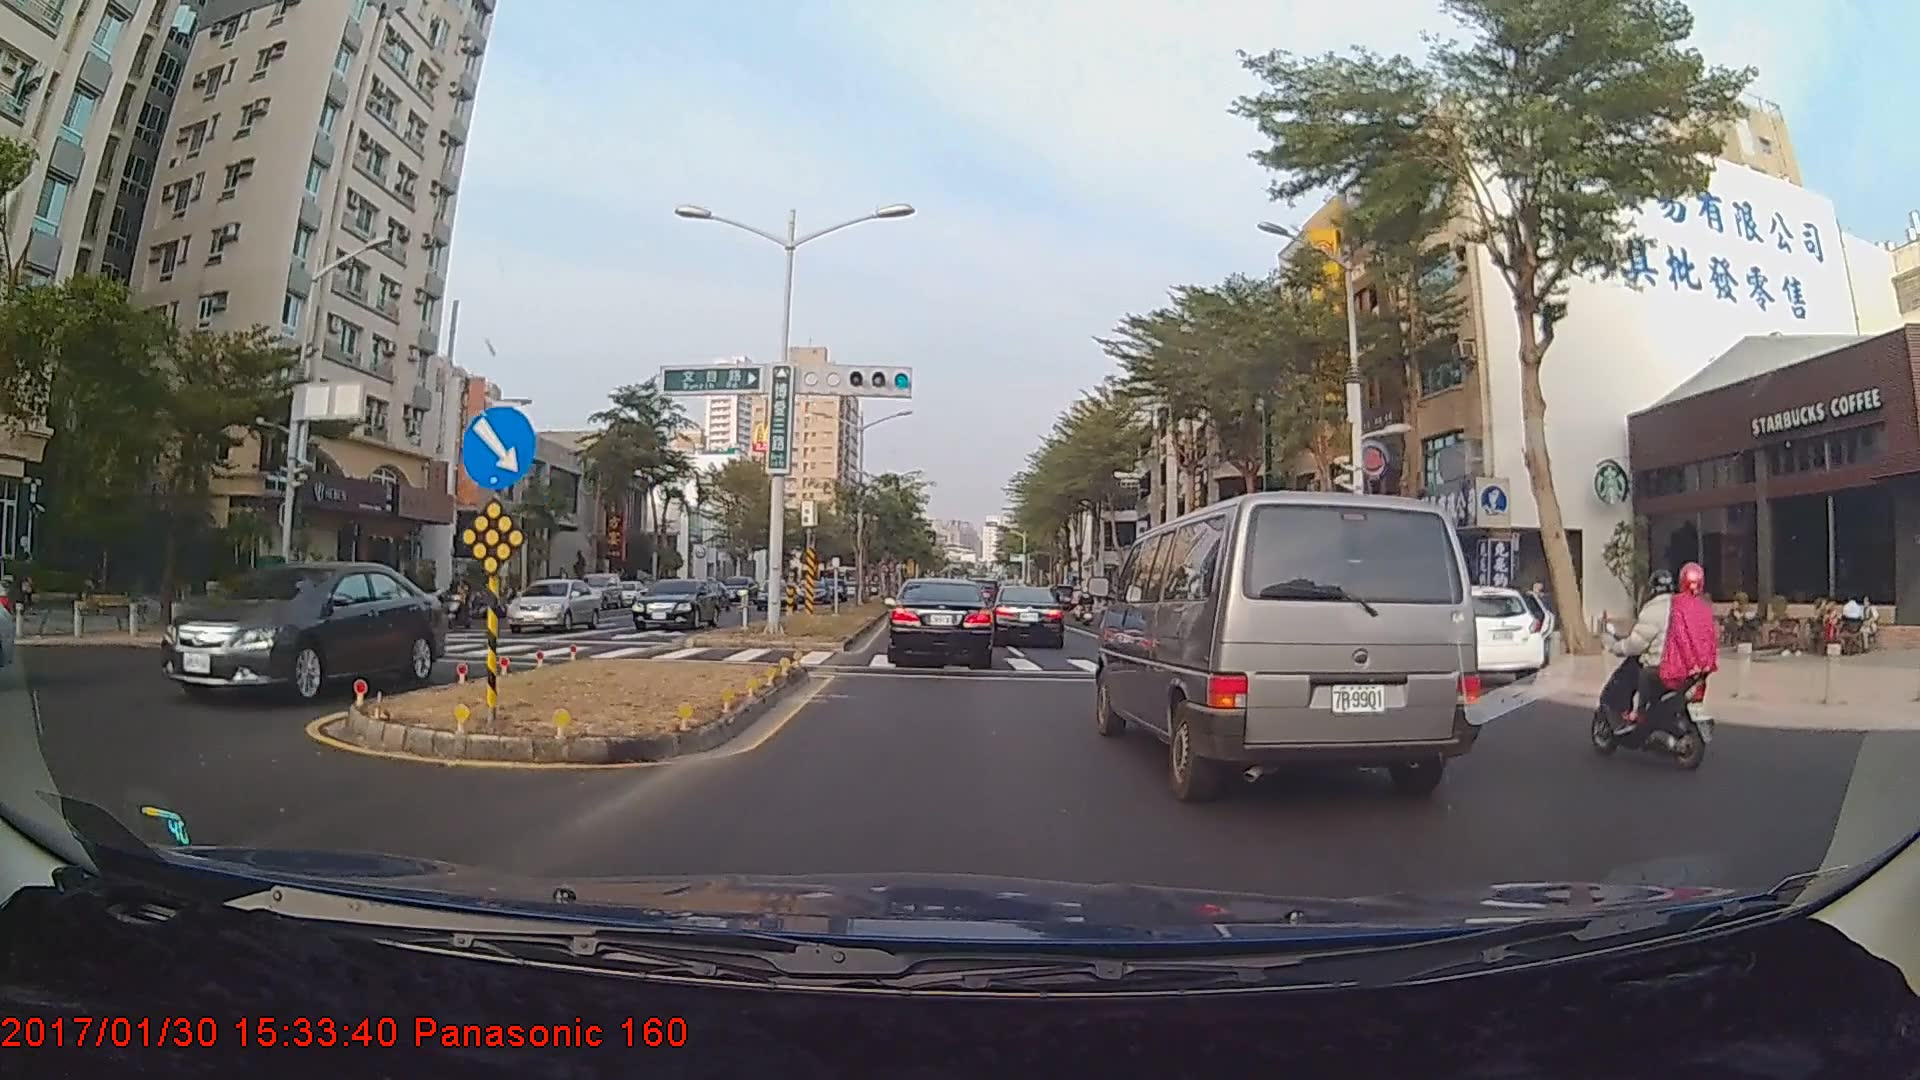rider: (1583, 555, 1727, 762), (440, 578, 481, 633)
vehicle: (1104, 479, 1477, 799), (153, 556, 443, 704), (1406, 579, 1536, 683), (885, 578, 995, 666), (505, 579, 602, 632), (631, 574, 719, 631), (992, 583, 1065, 649), (572, 573, 622, 609)
